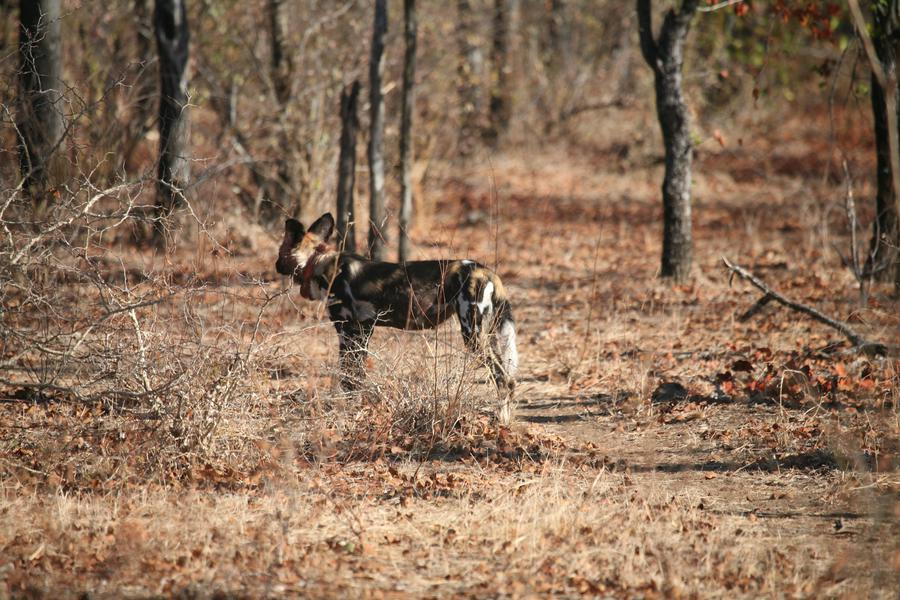wilddog: (273, 203, 502, 372)
